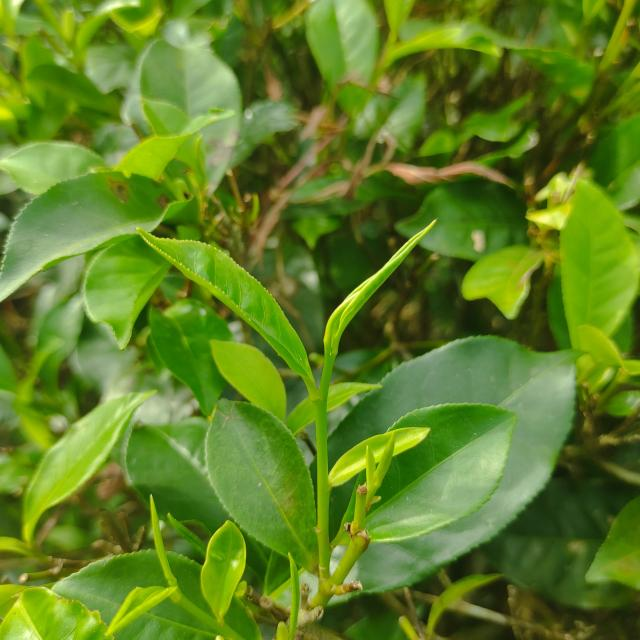unopened_leaf: (318, 217, 442, 385), (146, 491, 180, 594), (280, 543, 307, 640), (165, 505, 211, 558), (370, 427, 401, 496), (360, 440, 380, 497)
